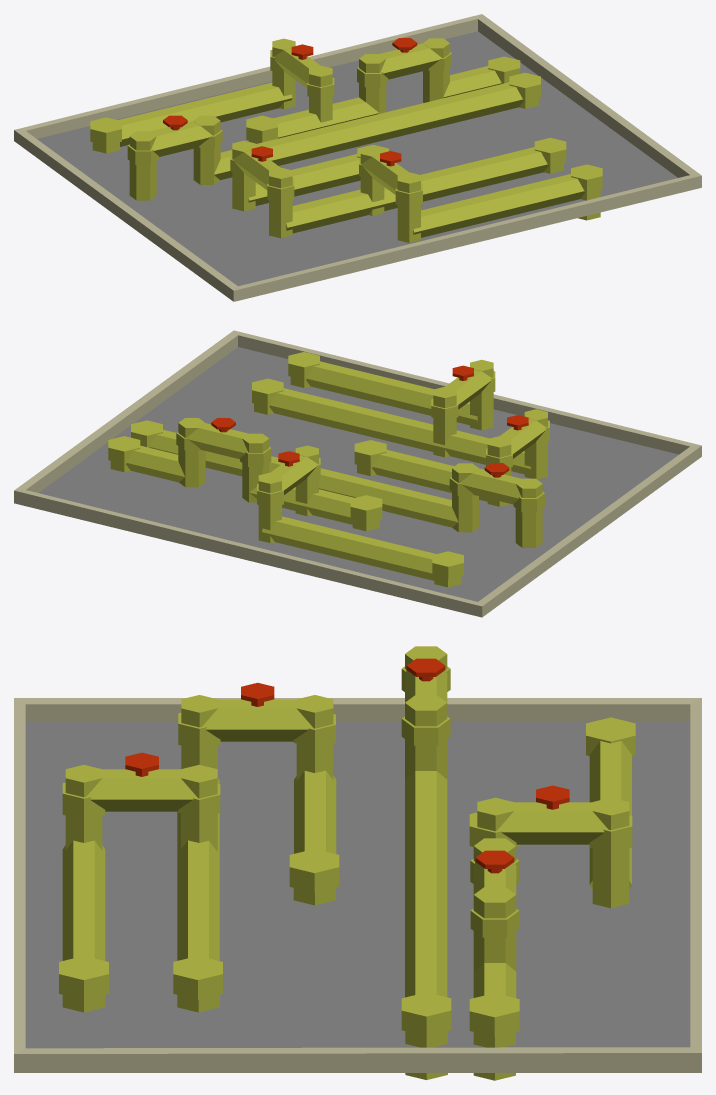
The model's file is Pipes.fbx.
The picture shows the model from 3 angles, top to bottom: view 1: azimuth 30°, elevation 25°; view 2: azimuth 150°, elevation 25°; view 3: azimuth 270°, elevation 25°; orthographic projection. The views are drawn at different scales.
Visible parts, largest first — view 1: plane, pipes; view 2: plane, pipes; view 3: plane, pipes.
Boxes of the visible parts, x1,y1,x2,y2 form: plane: (14, 14, 701, 301); pipes: (90, 38, 602, 242); plane: (14, 330, 701, 617); pipes: (108, 352, 549, 587); plane: (14, 698, 701, 1072); pipes: (59, 646, 635, 1080).
Size of the model in its own units: 971 by 173 by 790.
